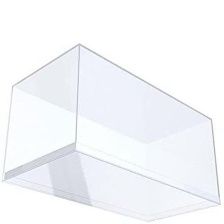plastic_box: (0, 39, 224, 223)
